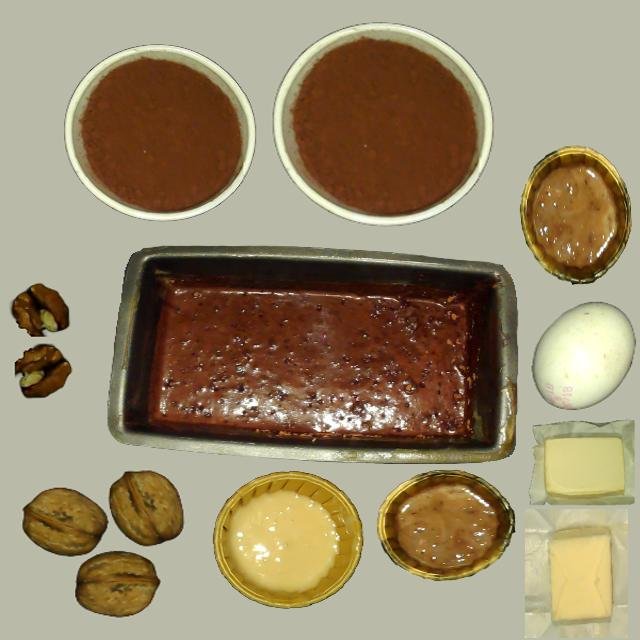Cocoa: (289, 37, 475, 215), (80, 56, 242, 213)
Walnut: (22, 488, 107, 556), (108, 470, 184, 546), (77, 553, 160, 615)
